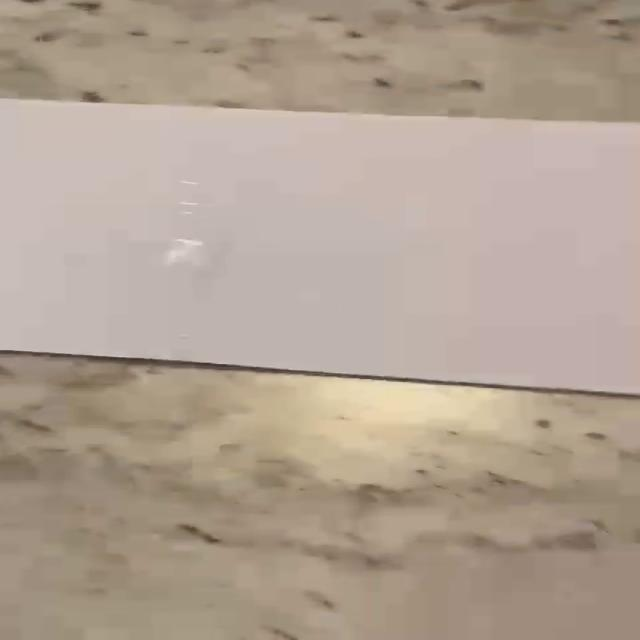road: (1, 99, 637, 393)
